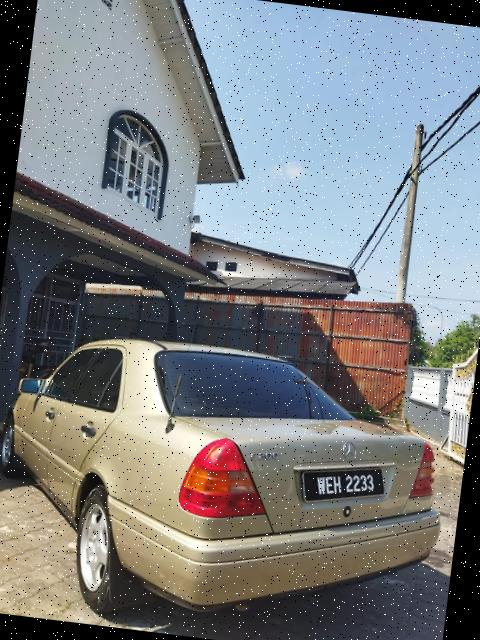License_Plate: (304, 463, 395, 509)
car: (1, 324, 460, 640)
